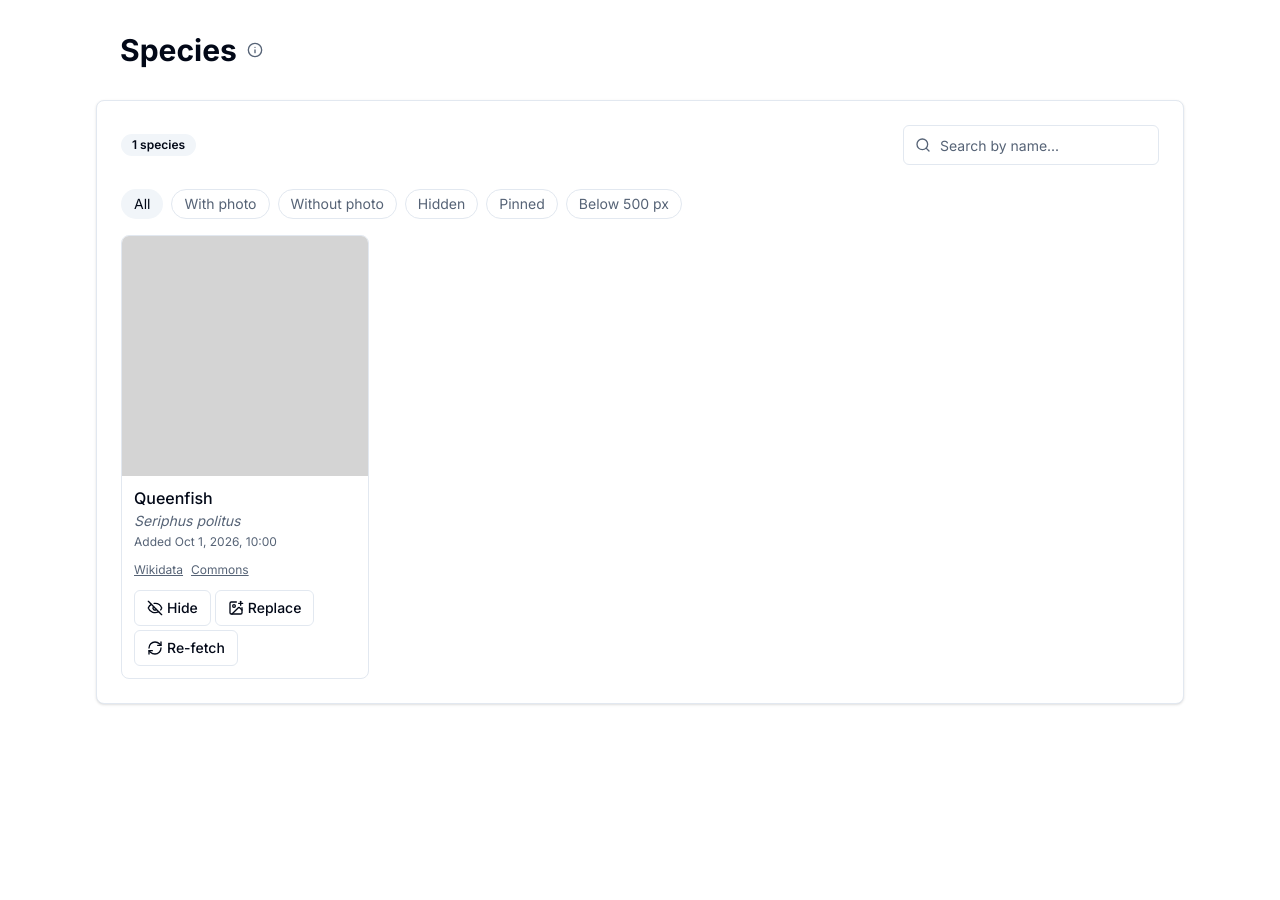
Test: replacing a photo › offers the candidates, the current one marked, a missing preview still pickable
Click the button "Replace" at (265, 608), box [215, 590, 314, 626]
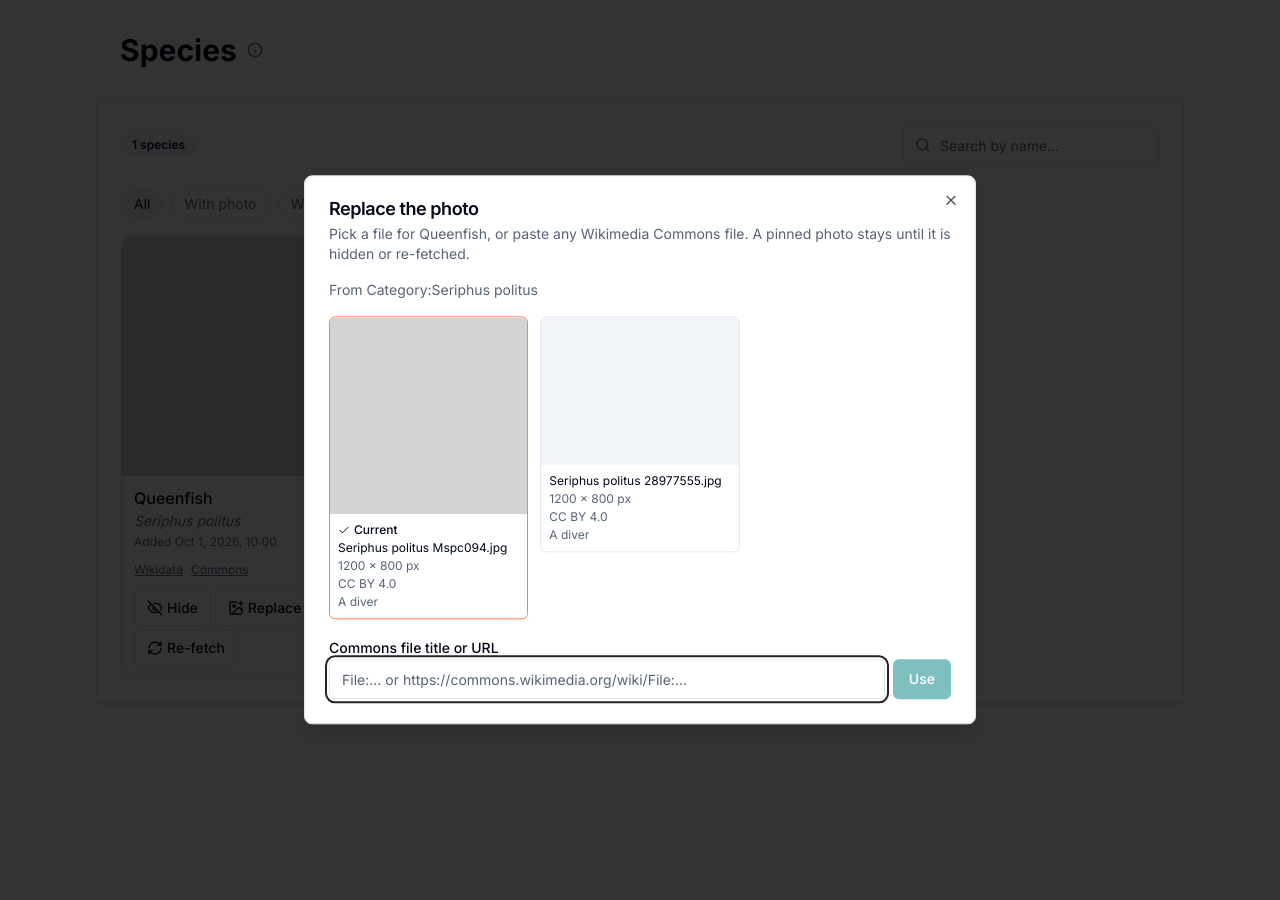
expect the button with aria-label "Use Seriphus politus 28977555.jpg" is enabled: met, box [540, 316, 740, 552]
expect the button with aria-label "Use Seriphus politus 28977555.jpg" shows "1200 × 800 px": met, box [540, 316, 740, 552]
